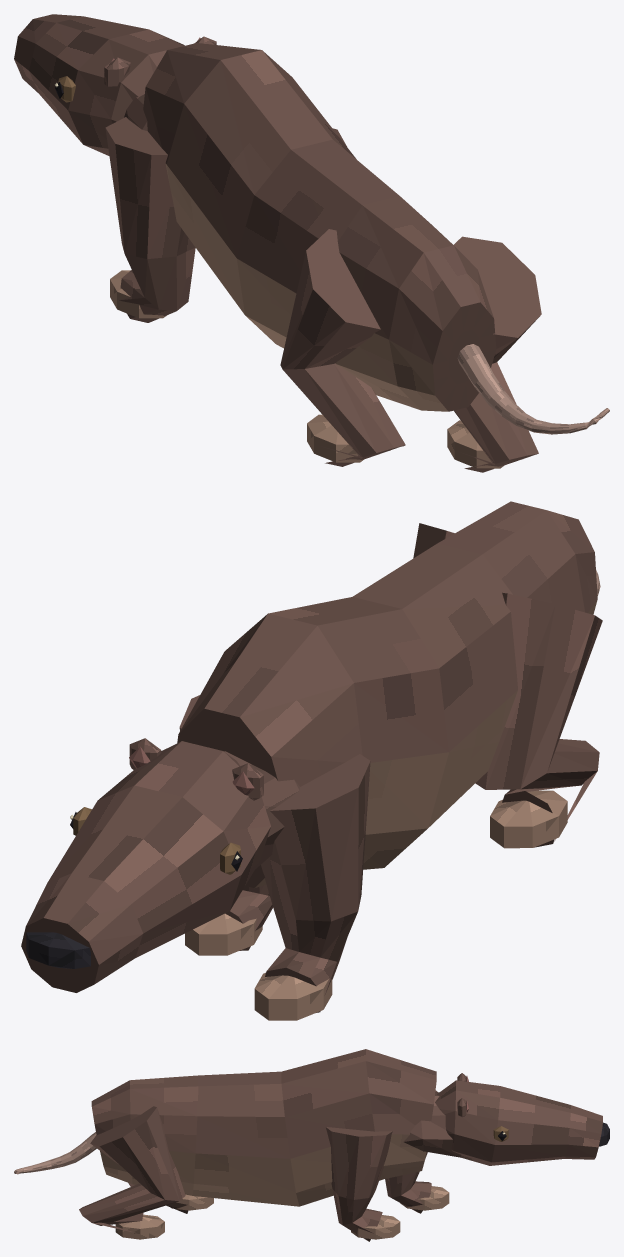
File: mon_shrew.glb
3 views of the same model, one above another, from view 1: azimuth 30°, elevation 25°; view 2: azimuth 150°, elevation 25°; view 3: azimuth 270°, elevation 25° (orthographic). The views are drawn at different scales.
Parts seen in each view (by area): view 1: closed_body; view 2: closed_body; view 3: closed_body.
Boxes of the visible parts, x1=… form: closed_body: x1=14, y1=14, x2=609, y2=472; closed_body: x1=21, y1=501, x2=602, y2=1020; closed_body: x1=14, y1=1049, x2=609, y2=1241.
Bounding box in the file's own units: 0.0564 × 0.0861 × 0.2688.
Materials: 1 (1 with a texture image).
